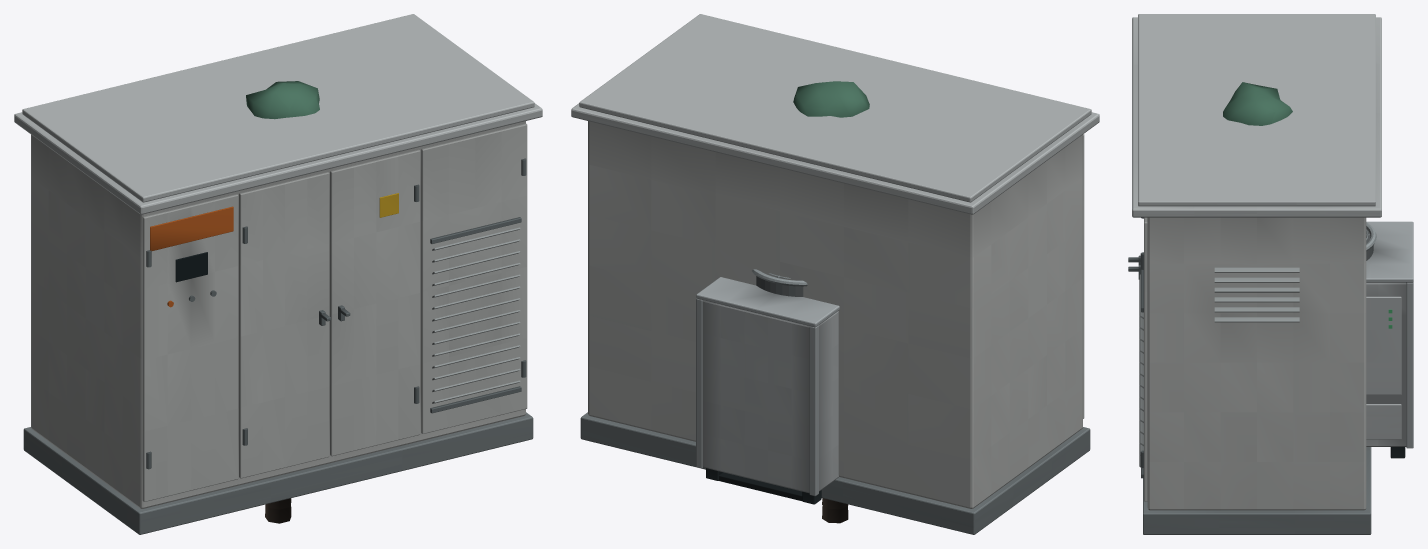
Rendered from hero-equipment-v1.glb.
3 views of the same model, side by side, from view 1: azimuth 30°, elevation 25°; view 2: azimuth 150°, elevation 25°; view 3: azimuth 270°, elevation 25° (orthographic).
Visible parts, largest first — view 1: EssCabinet, TreeB; view 2: EssCabinet, HeatPump, TreeB; view 3: EssCabinet, HeatPump, TreeB.
Boxes of the visible parts, bbox=[...] form: EssCabinet: bbox=[14, 14, 542, 534]; TreeB: bbox=[246, 81, 319, 523]; EssCabinet: bbox=[571, 14, 1099, 534]; HeatPump: bbox=[696, 269, 839, 504]; TreeB: bbox=[793, 81, 869, 523]; EssCabinet: bbox=[1128, 14, 1381, 534]; HeatPump: bbox=[1366, 221, 1413, 458]; TreeB: bbox=[1223, 82, 1292, 125].
Bounding box in the file's own units: 3.76 × 3.88 × 2.35.
